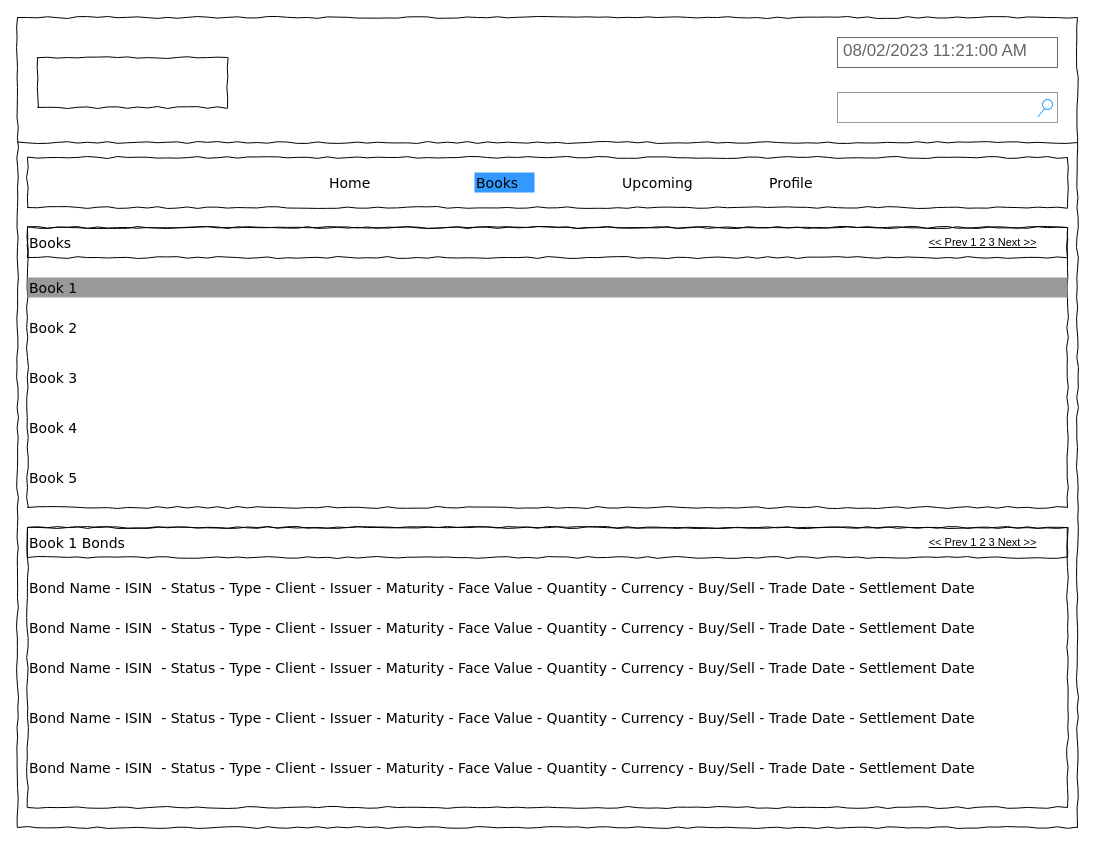
Image size: 1105x845. Some labels were removed from this diagram. The box of each missing label's shape, as (x1, y1, x2, y2) in pixels:
DB Logo: (36, 56, 228, 108)
Search: (836, 92, 1058, 122)
